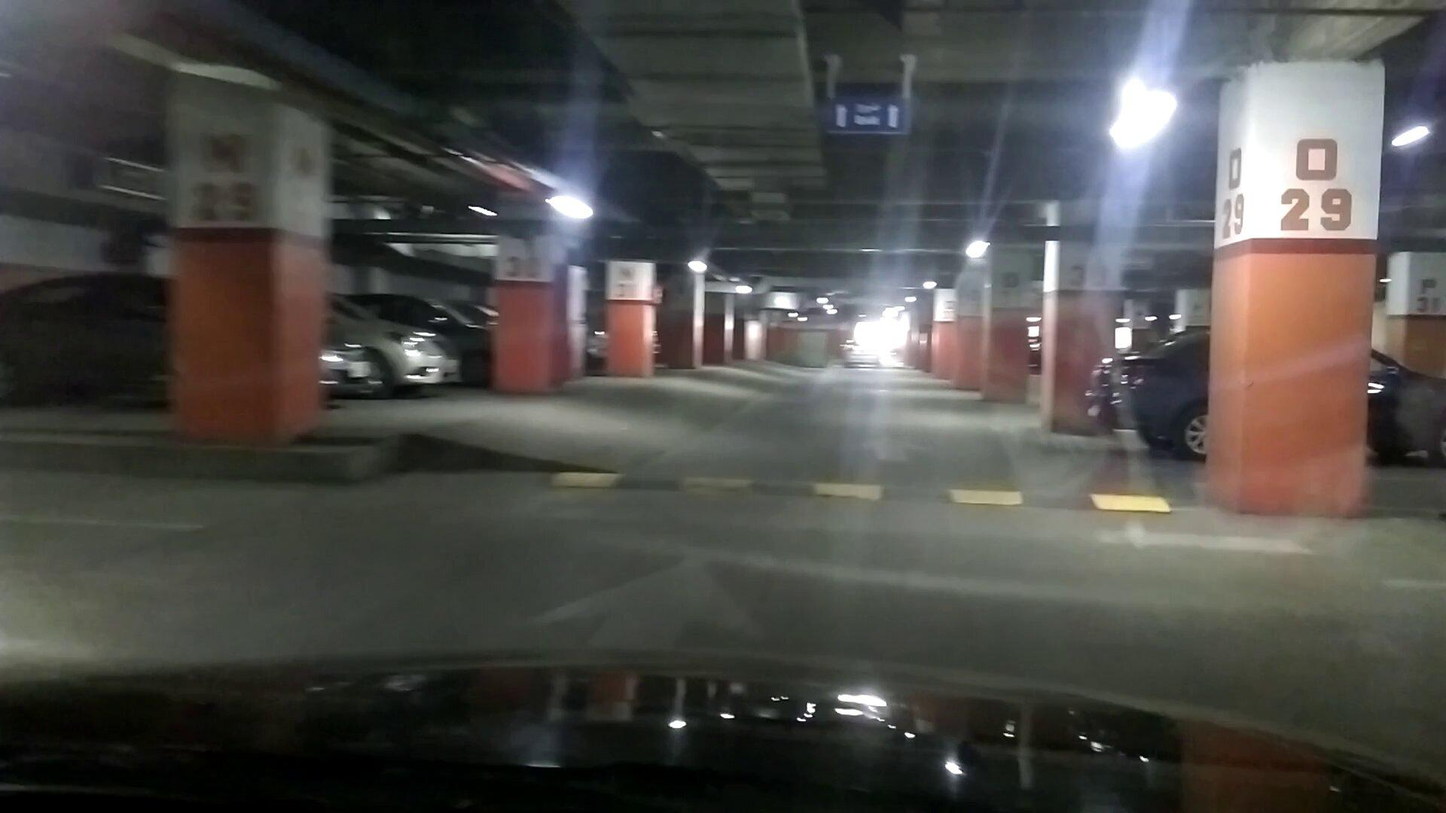Bump: (545, 468, 1173, 513)
